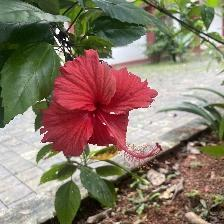hibiscus: (41, 52, 164, 164)
